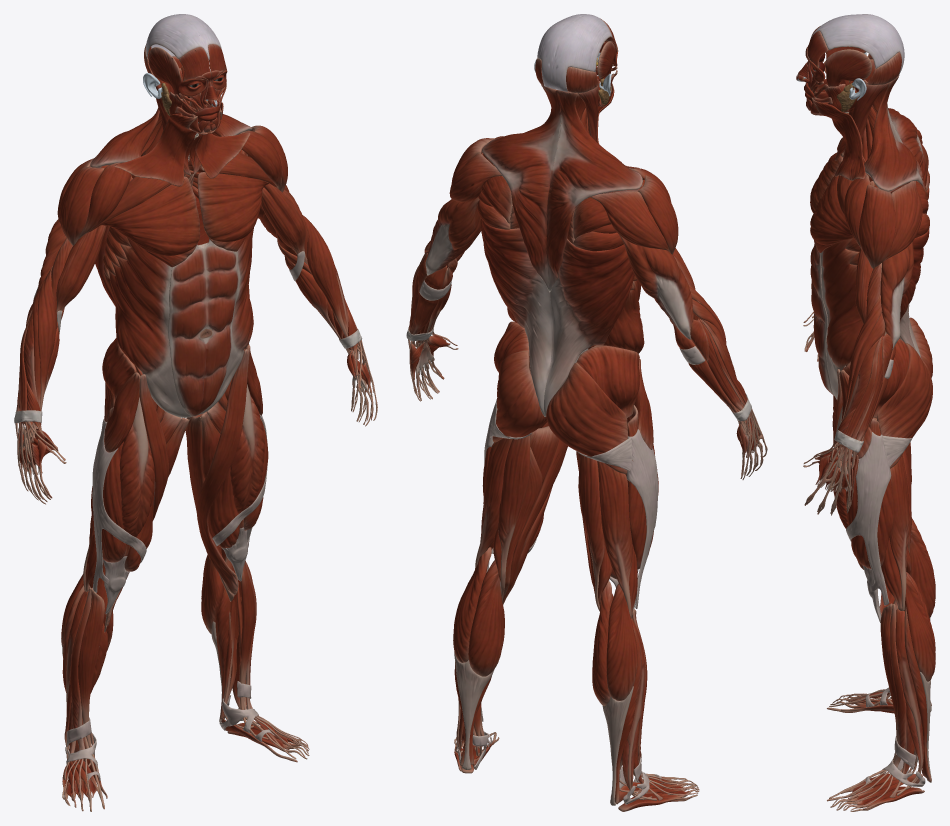
Rendered from core.glb.
3 views of the same model, side by side, from view 1: azimuth 30°, elevation 25°; view 2: azimuth 150°, elevation 25°; view 3: azimuth 270°, elevation 25° (orthographic). The views are drawn at different scales.
Visible parts, largest first — view 1: Rectus_Abdominis_m, External_Oblique_r, Pectoralis_Major_Sternocostalis__r, Sartorius_l, Pectoralis_Major_Sternocostalis__l, Rectus_Femoris_r, Rectus_Femoris_l, Platysma_r, External_Oblique_l, Iliotibial_Tract_IT_Band__r, Biceps_Brachii_r, Sartorius_r (+37 smaller); view 2: Latissimus_Dorsi_r, Trapezius_r, Trapezius_l, Latissimus_Dorsi_l, Gluteus_Maximus_r, Triceps_Brachii_r, Biceps_Femoris_Long_Head__r, Gluteus_Maximus_l, Gastrocnemius_Lateral_Head_l, Gluteus_Medius_r, Gastrocnemius_Medial_Head_r, Triceps_Brachii_l (+32 smaller); view 3: External_Oblique_l, Iliotibial_Tract_IT_Band__l, Trapezius_l, Gluteus_Maximus_l, Epicranial_Aponeurosis_001_l, Deltoid_Middle_l, Triceps_Brachii_l, Biceps_Femoris_Long_Head__l, Vastus_Lateralis_l, Gastrocnemius_Medial_Head_l, Platysma_l, Pectoralis_Major_Sternocostalis__l (+46 smaller).
Part boxes in pixels (x1,y1,x2,y2): Rectus_Abdominis_m: (167, 239, 238, 416); External_Oblique_r: (104, 237, 202, 417); Pectoralis_Major_Sternocostalis__r: (101, 176, 200, 255); Sartorius_l: (196, 349, 249, 594); Pectoralis_Major_Sternocostalis__l: (197, 172, 268, 241); Rectus_Femoris_r: (119, 397, 154, 556); Rectus_Femoris_l: (230, 384, 264, 528); Platysma_r: (114, 114, 207, 186); External_Oblique_l: (199, 228, 253, 414); Iliotibial_Tract_IT_Band__r: (92, 422, 146, 592); Biceps_Brachii_r: (56, 225, 106, 321); Sartorius_r: (106, 374, 168, 626); Latissimus_Dorsi_r: (544, 239, 634, 416); Trapezius_r: (546, 90, 642, 292); Trapezius_l: (482, 85, 561, 292); Latissimus_Dorsi_l: (480, 219, 553, 416); Gluteus_Maximus_r: (546, 362, 627, 473); Triceps_Brachii_r: (619, 235, 693, 339); Biceps_Femoris_Long_Head__r: (597, 461, 632, 616); Gluteus_Maximus_l: (492, 350, 546, 442); Gastrocnemius_Lateral_Head_l: (468, 560, 504, 676); Gluteus_Medius_r: (576, 346, 639, 417); Gastrocnemius_Medial_Head_r: (606, 583, 637, 700); Triceps_Brachii_l: (425, 197, 481, 275); External_Oblique_l: (821, 238, 863, 399); Iliotibial_Tract_IT_Band__l: (846, 432, 891, 605); Trapezius_l: (864, 75, 927, 196); Gluteus_Maximus_l: (877, 343, 932, 468); Epicranial_Aponeurosis_001_l: (811, 17, 904, 75); Deltoid_Middle_l: (859, 184, 895, 268); Triceps_Brachii_l: (880, 241, 913, 349); Biceps_Femoris_Long_Head__l: (889, 455, 909, 610); Vastus_Lateralis_l: (846, 419, 893, 568); Gastrocnemius_Medial_Head_l: (905, 576, 935, 681); Platysma_l: (810, 97, 865, 180); Pectoralis_Major_Sternocostalis__l: (810, 175, 853, 245).
Bounding box in the file's own units: 0.8516 × 1.79 × 0.3051.
5 materials, 5 textured.
